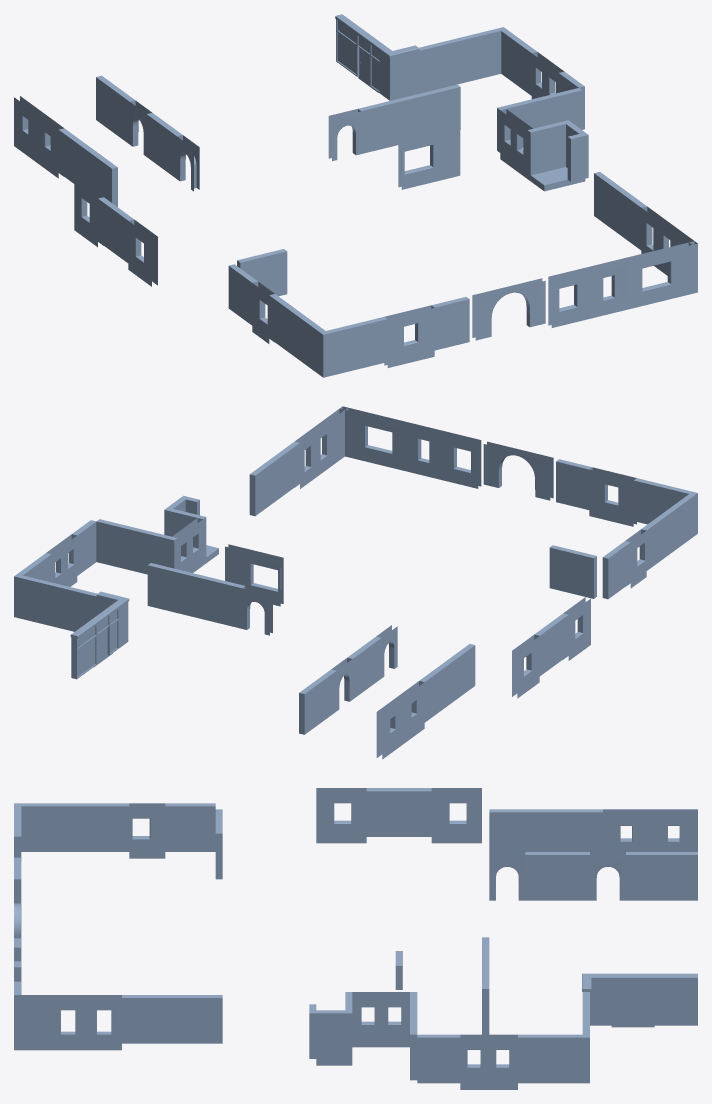
Rendered from Floor01_outer_walls.fbx.
3 renders of one model, top to bottom at view 1: azimuth 30°, elevation 25°; view 2: azimuth 150°, elevation 25°; view 3: azimuth 270°, elevation 25°, orthographic. The views are drawn at different scales.
Visible parts, largest first — view 1: polySurface787, walls51, wall_llong10, polySurface1113, walls10, polySurface865, polySurface1122, polySurface1112, walls4, polySurface1121, polySurface1119, walls36 (+25 smaller); view 2: polySurface787, wall_llong10, walls51, walls10, polySurface1113, walls4, polySurface1112, polySurface1121, wall_llong29, polySurface1119, polySurface865, walls36 (+26 smaller); view 3: walls10, walls4, polySurface869, walls36, walls96, walls38, walls40, polySurface787, walls95, Fireplace:Fireplace:Fireplace:Fireplace:walls38, Window14, Window13 (+18 smaller).
Boxes of the visible parts, bbox=[...] form: polySurface787: bbox=[497, 88, 588, 191]; walls51: bbox=[396, 28, 501, 99]; wall_llong10: bbox=[358, 84, 460, 153]; polySurface1113: bbox=[630, 241, 697, 307]; walls10: bbox=[269, 294, 329, 377]; polySurface865: bbox=[398, 124, 460, 189]; polySurface1122: bbox=[326, 317, 387, 376]; polySurface1112: bbox=[583, 257, 633, 319]; walls4: bbox=[594, 172, 647, 250]; polySurface1121: bbox=[384, 305, 434, 367]; polySurface1119: bbox=[472, 278, 545, 340]; walls36: bbox=[71, 137, 117, 206]; polySurface787: bbox=[96, 495, 218, 574]; wall_llong10: bbox=[147, 563, 245, 628]; walls51: bbox=[19, 575, 115, 631]; walls10: bbox=[641, 491, 697, 570]; polySurface1113: bbox=[339, 406, 403, 469]; walls4: bbox=[249, 441, 299, 516]; polySurface1112: bbox=[400, 421, 447, 480]; polySurface1121: bbox=[589, 467, 636, 526]; wall_llong29: bbox=[549, 545, 596, 598]; polySurface1119: bbox=[483, 441, 553, 500]; polySurface865: bbox=[225, 544, 283, 606]; walls36: bbox=[431, 644, 475, 713]; walls10: bbox=[14, 803, 129, 851]; walls4: bbox=[122, 995, 222, 1043]; polySurface869: bbox=[14, 995, 85, 1050]; walls36: bbox=[489, 809, 575, 851]; walls96: bbox=[518, 1034, 589, 1083]; walls38: bbox=[626, 852, 697, 900]; walls40: bbox=[604, 980, 697, 1025]; polySurface787: bbox=[309, 992, 417, 1080]; walls95: bbox=[366, 788, 431, 836]; Fireplace:Fireplace:Fireplace:Fireplace:walls38: bbox=[525, 852, 589, 900]; Window14: bbox=[316, 788, 366, 843]; Window13: bbox=[431, 788, 481, 843].
Bounding box in the file's own units: 4100 × 423 × 4750.
